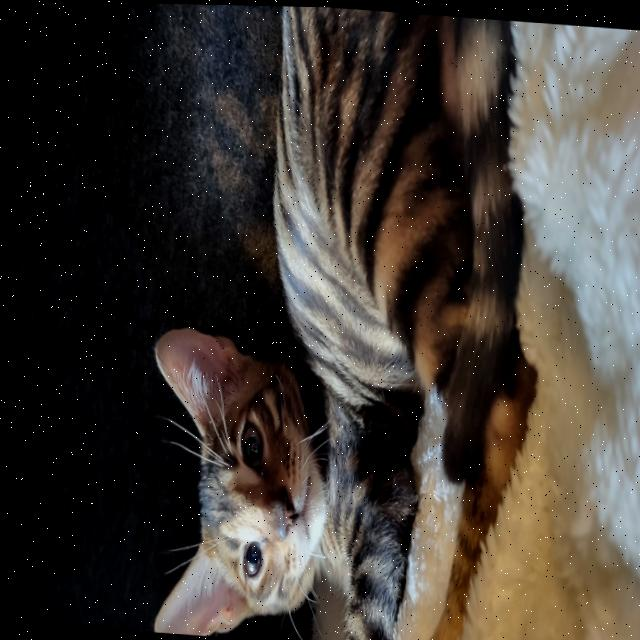Toyger: (109, 2, 570, 640)
